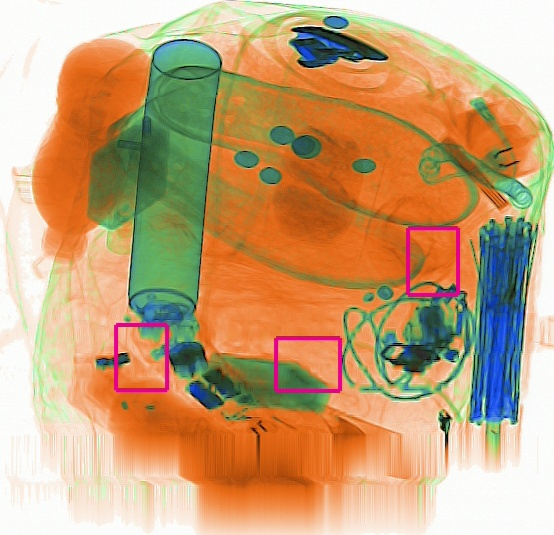pressure: (121, 33, 220, 357)
